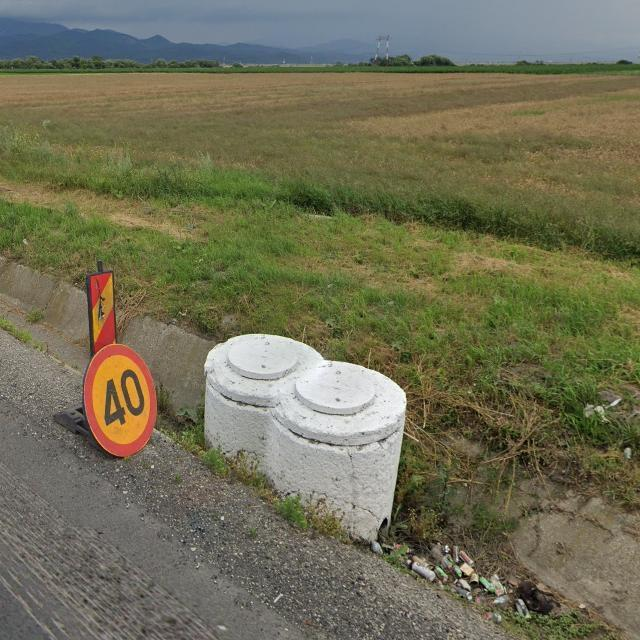forb_speed_over_40: (84, 343, 162, 461)
